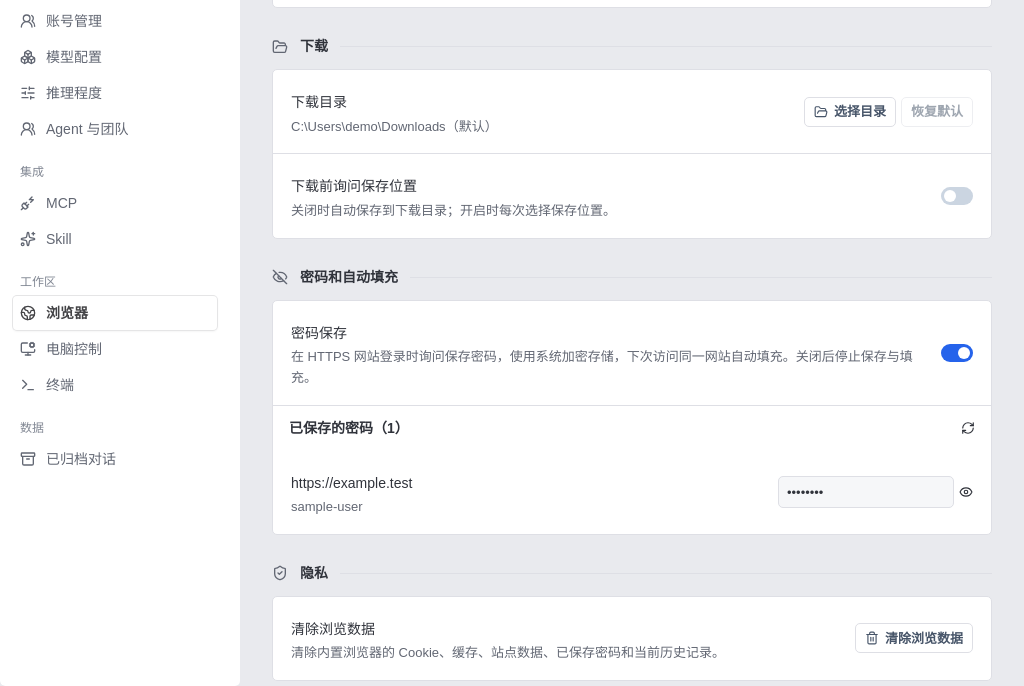
SettingsWorkspace › does not restore a late password response after browser data is cleared
This screenshot has width=1024, height=686.
(page scrolled)
Step 1. Click the button named "查看 https://example.test 的密码" → [966, 492], box [959,485,973,499]
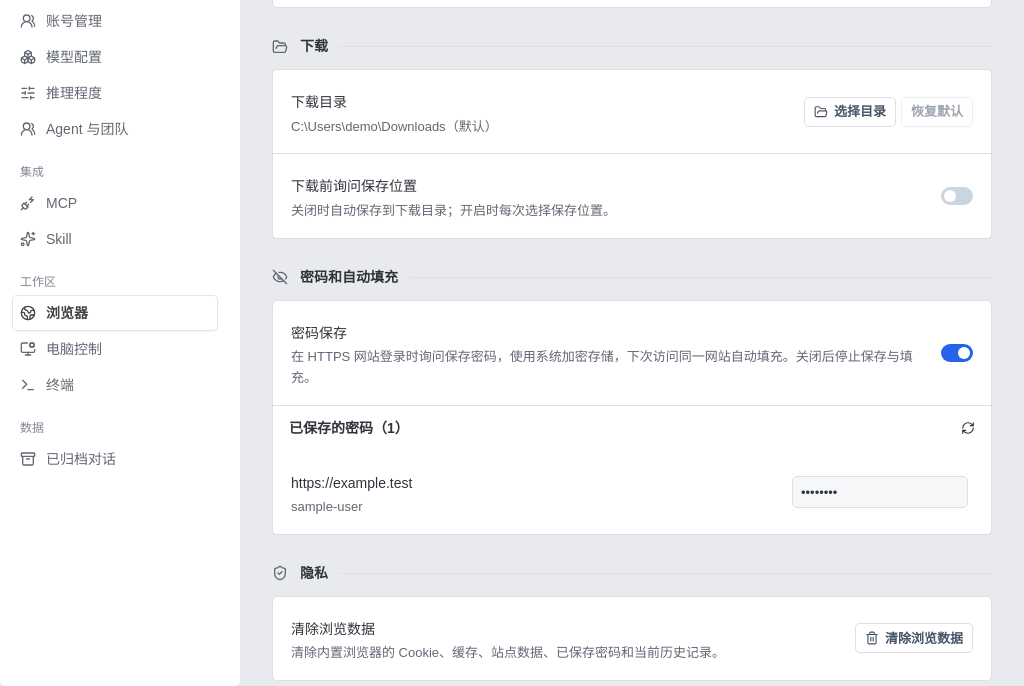
Step 2. Click the button "清除浏览数据" → [914, 638], box [855,623,973,653]
(page scrolled)
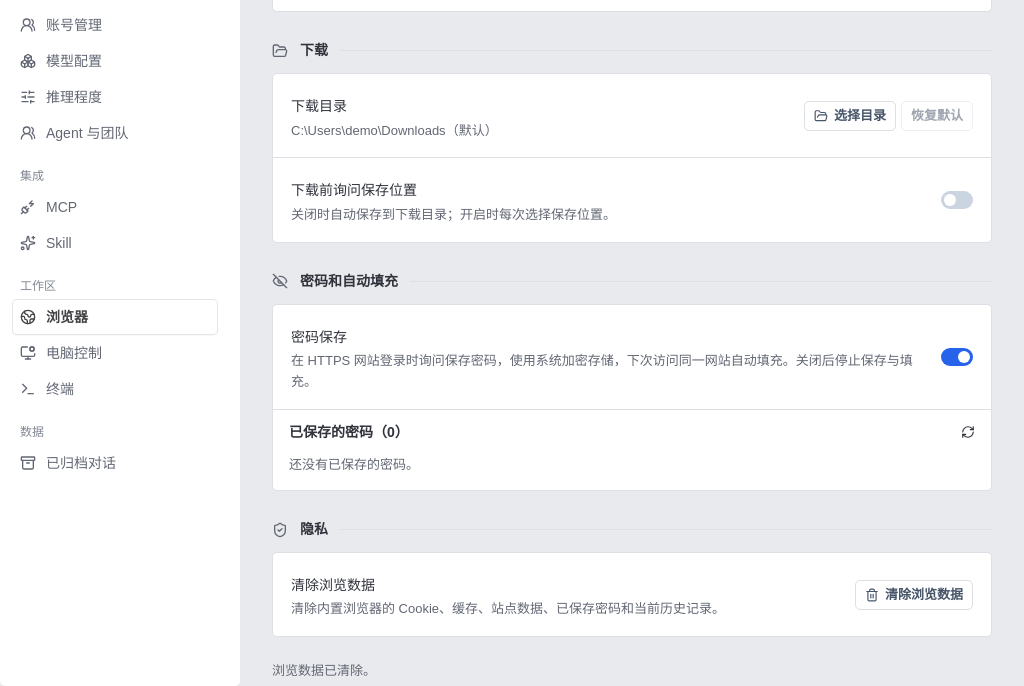
Expected: the text "还没有已保存的密码" is shown, [289,456,419,472]
